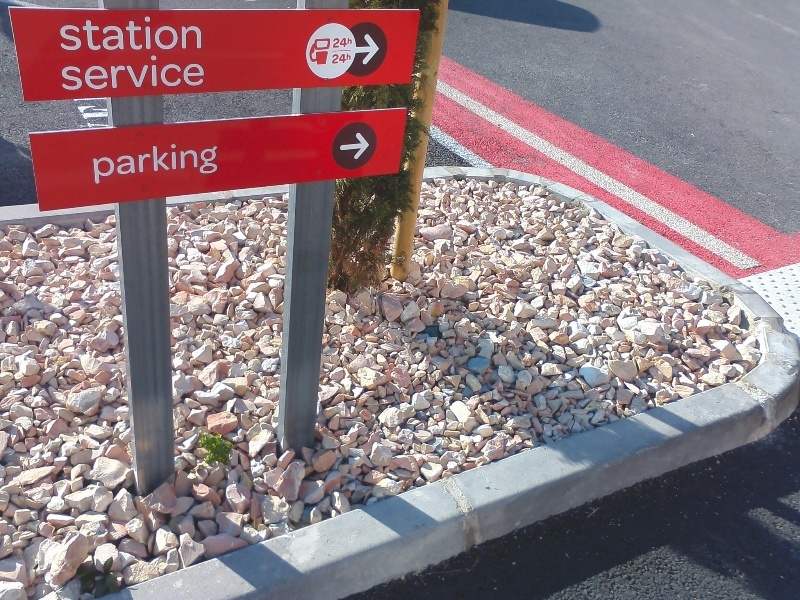text: (97, 140, 112, 187), (113, 140, 128, 187), (129, 140, 144, 187), (145, 140, 160, 187), (161, 140, 176, 187), (177, 140, 192, 187), (193, 140, 208, 187), (65, 52, 80, 93), (81, 52, 96, 93), (97, 52, 112, 93), (113, 52, 128, 93), (129, 52, 144, 93), (145, 52, 160, 93), (161, 52, 176, 93), (177, 52, 192, 93), (65, 15, 80, 52), (81, 15, 96, 52), (97, 15, 112, 52), (113, 15, 128, 52), (129, 15, 144, 52), (145, 15, 160, 52), (161, 15, 176, 52), (177, 15, 192, 52), (193, 52, 205, 93), (209, 140, 219, 187), (193, 15, 204, 52), (92, 140, 96, 187), (59, 15, 64, 52), (337, 38, 352, 50), (337, 53, 352, 65), (62, 52, 64, 93), (333, 38, 336, 50), (333, 53, 336, 65), (353, 38, 354, 50)
